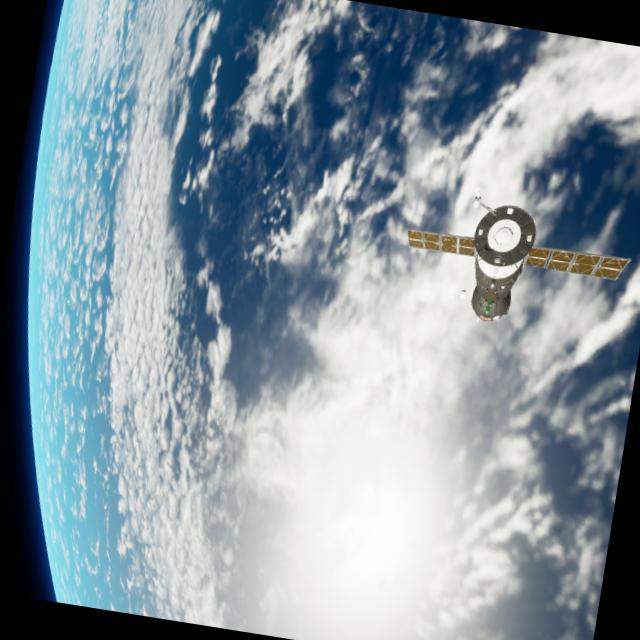Satellites revolving around earth: (393, 184, 638, 346), (459, 197, 541, 329)
